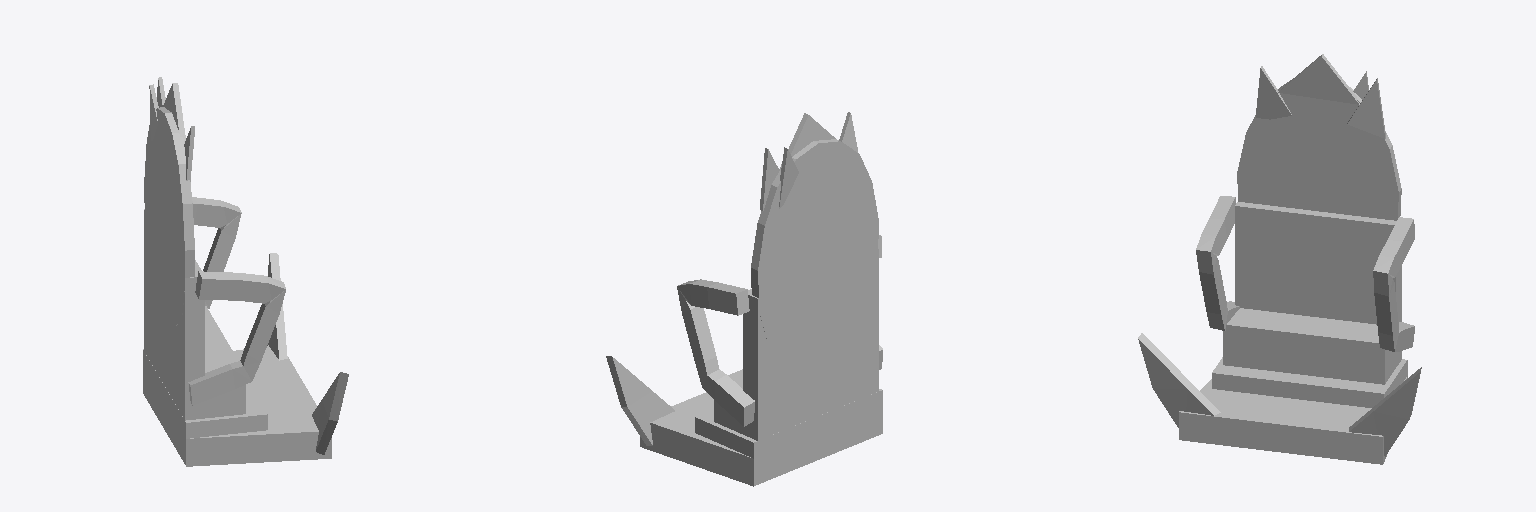
The model's file is chair.obj.
3 views of the same model, side by side, from view 1: azimuth 30°, elevation 25°; view 2: azimuth 150°, elevation 25°; view 3: azimuth 270°, elevation 25° (orthographic).
Visible parts, largest first — view 1: 平面.038; view 2: 平面.038; view 3: 平面.038.
Boxes of the visible parts, <box> form: 平面.038: <box>143,77,348,466</box>; 平面.038: <box>606,112,882,486</box>; 平面.038: <box>1138,54,1421,464</box>.
Bounding box in the file's own units: 6.24 × 11.13 × 8.33.